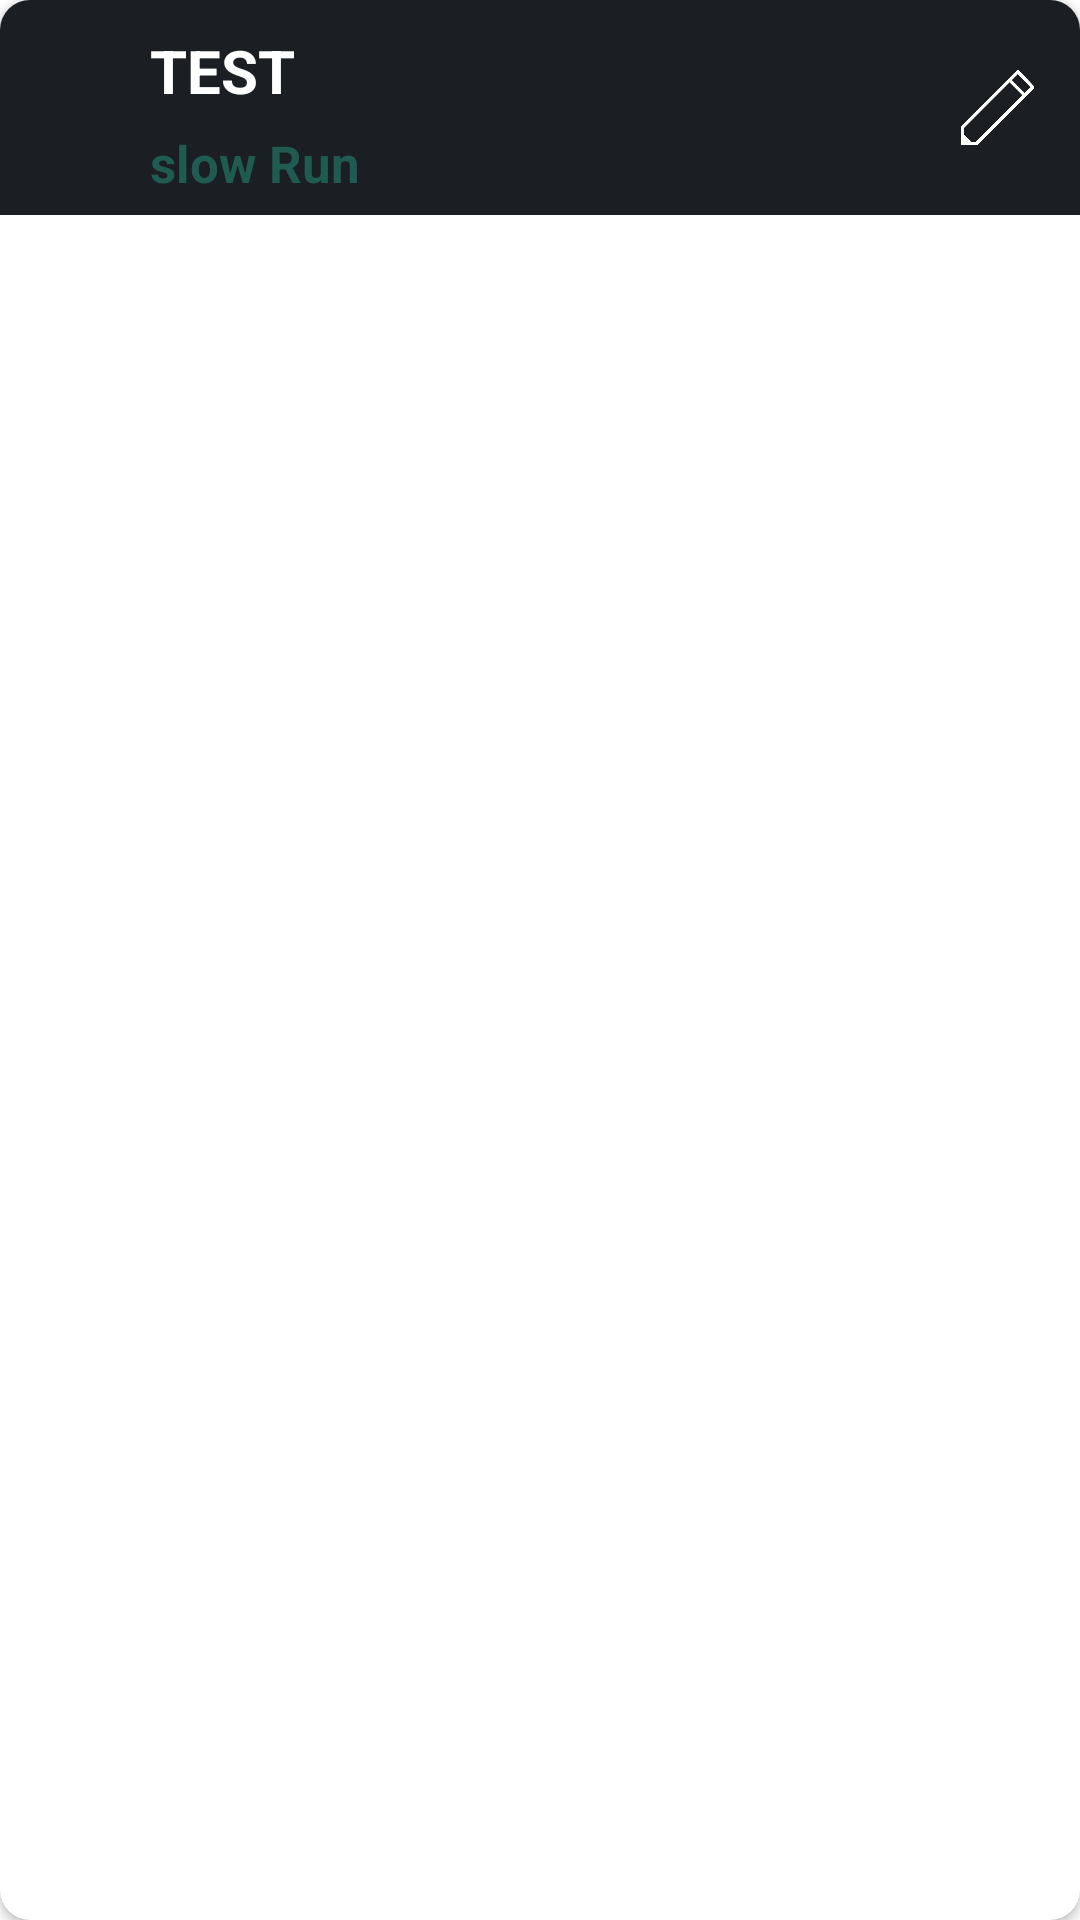

Icon click points for this 1080px×1920px phone screenshot, format (x=x, y=y):
edit: (x=997, y=107)
